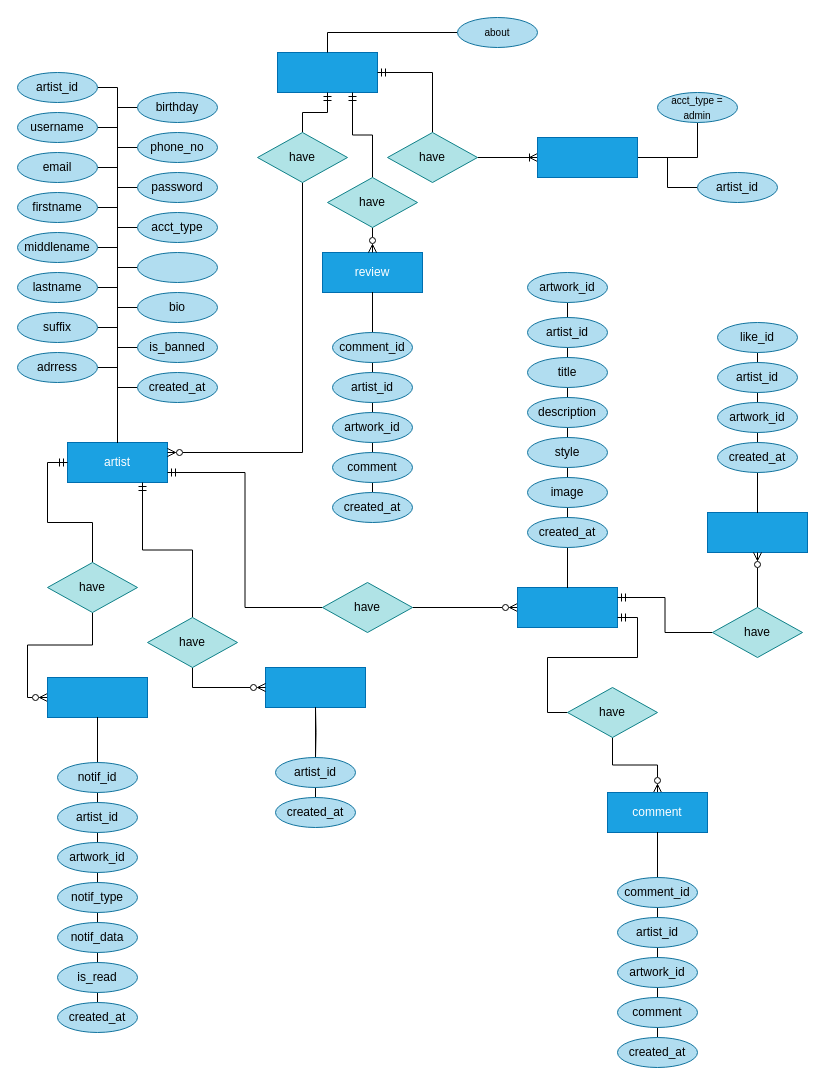
This 825x1085 diagram has some shape labels left out. Each missing label, with the centre of its shape:
admin: (x=587, y=157)
artwork: (x=567, y=607)
follower: (x=315, y=687)
like: (x=757, y=532)
notification: (x=97, y=697)
picture: (x=177, y=267)
VIVIDLY: (x=327, y=72)
